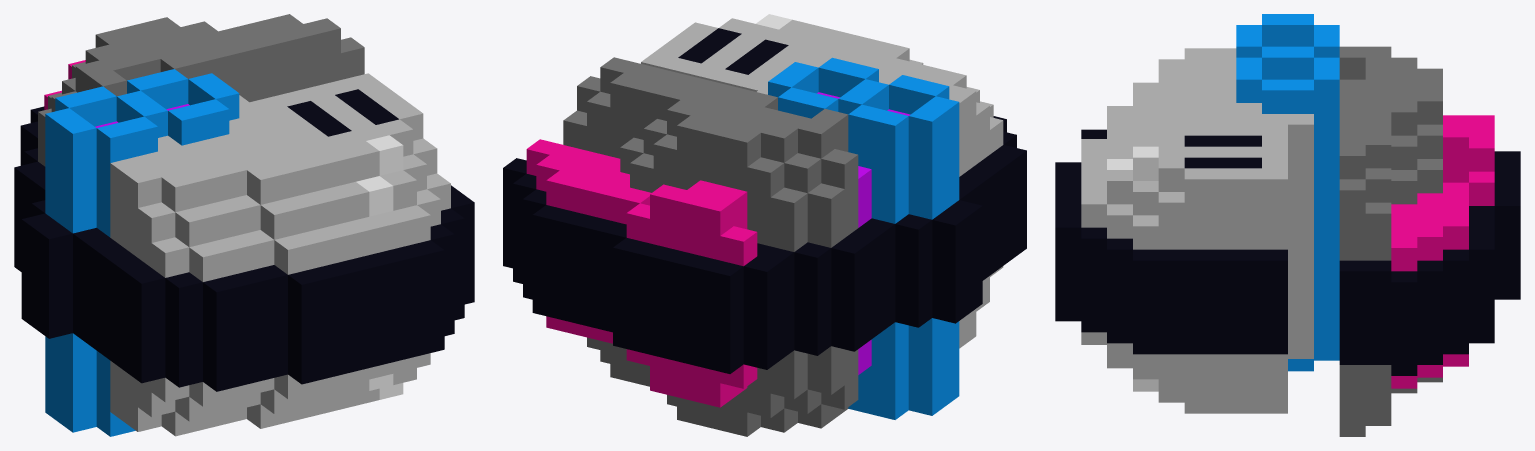
The model's file is zenChan2.obj.
3 renders of one model, left to right at view 1: azimuth 30°, elevation 25°; view 2: azimuth 150°, elevation 25°; view 3: azimuth 270°, elevation 25°, orthographic. The views are drawn at different scales.
Size of the model in its own units: 1.7 by 1.2 by 1.8.
Materials: 1 (1 with a texture image).
